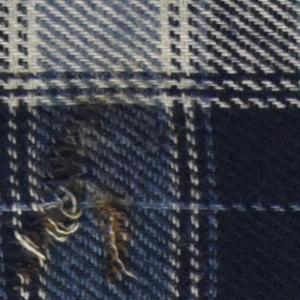Damage: (1, 93, 138, 295)
Oil Stain: (12, 197, 134, 292)
